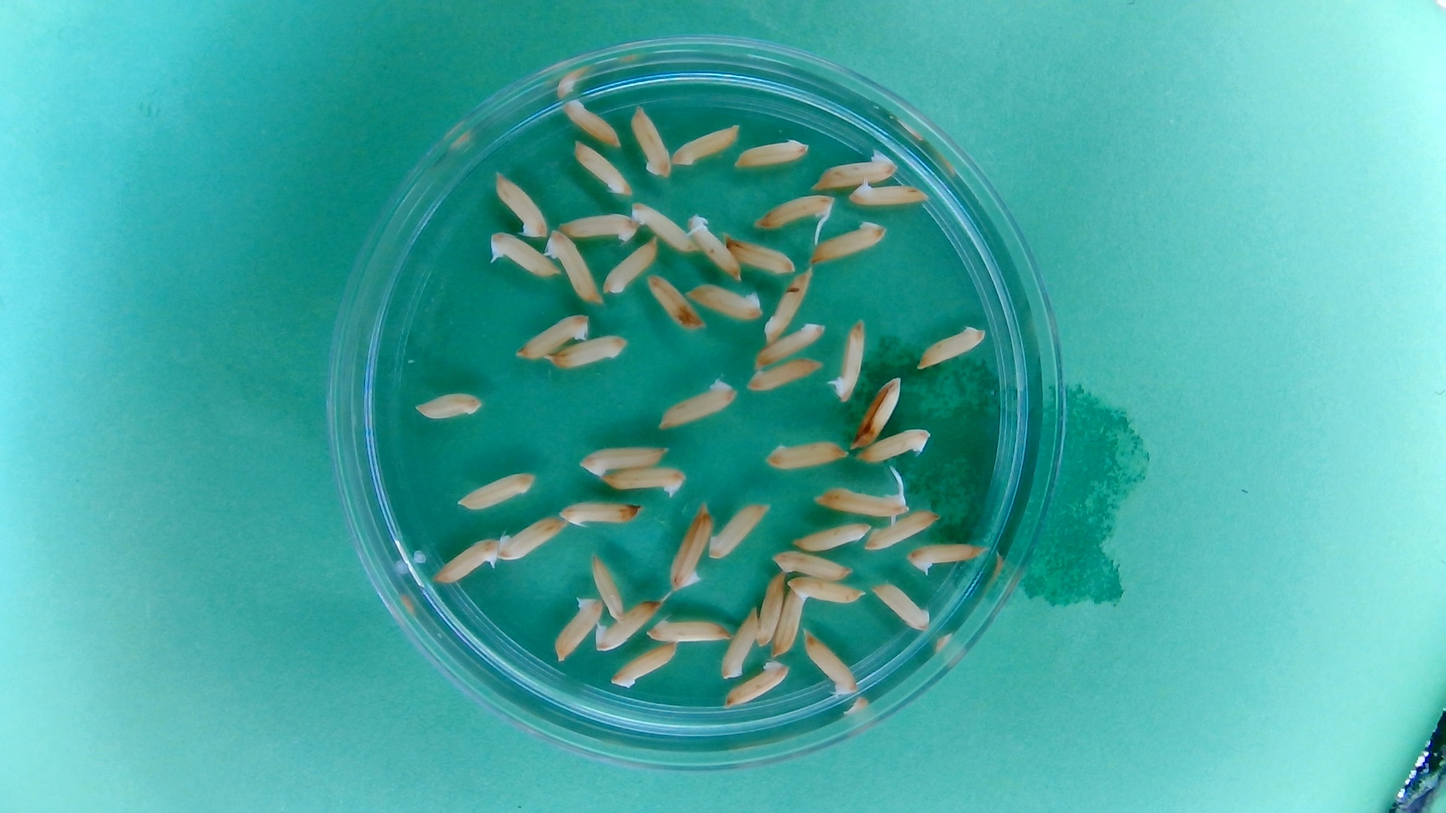no: (655, 375, 740, 431), (545, 228, 602, 306), (667, 501, 714, 592), (491, 168, 549, 239), (801, 628, 859, 698), (706, 500, 772, 561), (628, 199, 698, 256), (761, 268, 813, 344), (851, 374, 903, 450), (513, 311, 591, 361), (688, 215, 746, 282), (751, 321, 830, 370), (645, 270, 707, 332), (593, 598, 661, 653), (807, 148, 898, 189), (862, 507, 943, 553), (807, 219, 888, 265), (569, 138, 633, 196), (721, 659, 792, 711), (551, 592, 603, 663), (601, 235, 660, 296), (454, 469, 537, 512), (628, 102, 673, 180), (559, 96, 624, 149), (609, 641, 679, 689), (916, 324, 987, 371), (496, 515, 566, 562), (547, 332, 633, 370), (670, 122, 741, 168), (683, 280, 764, 320), (870, 580, 932, 632), (576, 442, 668, 477), (595, 464, 690, 497), (718, 607, 760, 681), (763, 437, 848, 473), (856, 425, 933, 464), (725, 236, 798, 276), (644, 614, 735, 646), (745, 356, 825, 392), (769, 547, 853, 580), (772, 580, 807, 659), (556, 211, 639, 244), (790, 519, 872, 552), (733, 136, 810, 171), (558, 497, 643, 528), (782, 576, 865, 607), (590, 551, 627, 620), (412, 388, 485, 422), (755, 569, 786, 648), (848, 180, 932, 209)
yes: (485, 228, 561, 278), (813, 482, 909, 519), (432, 535, 501, 586), (828, 319, 867, 402), (755, 191, 837, 230)
